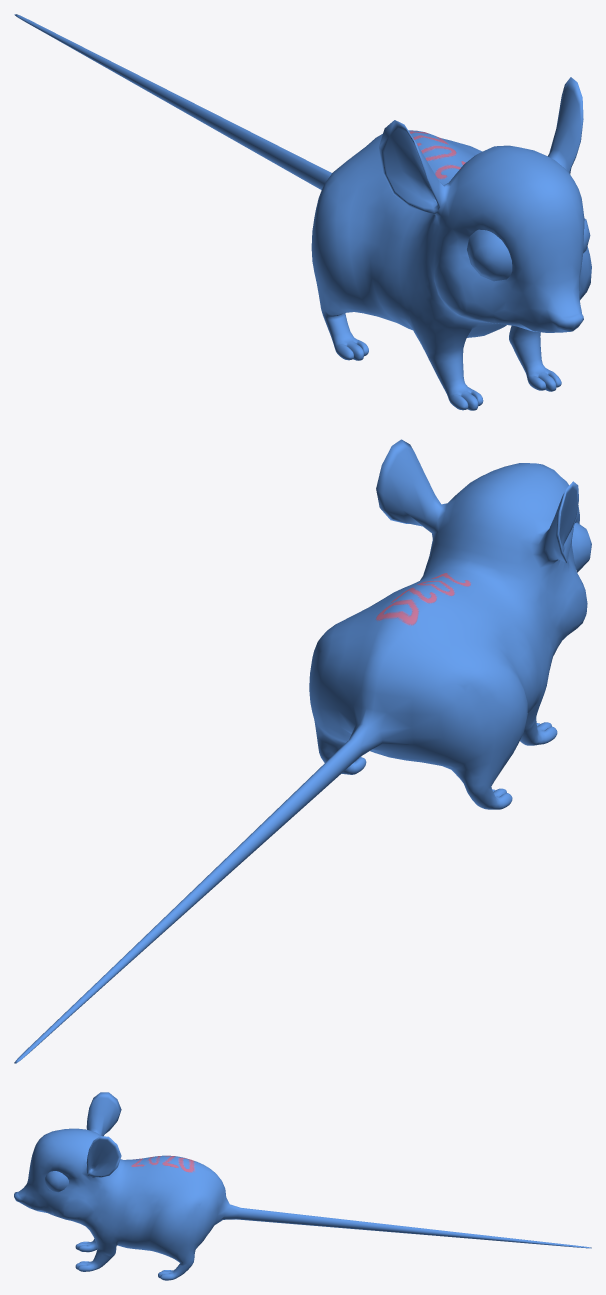
Rendered from mouse3.gltf.
The picture shows the model from 3 angles, top to bottom: view 1: azimuth 30°, elevation 25°; view 2: azimuth 150°, elevation 25°; view 3: azimuth 270°, elevation 25°; orthographic projection. The views are drawn at different scales.
Parts seen in each view (by area): view 1: mouse_walk v1; view 2: mouse_walk v1; view 3: mouse_walk v1.
Part boxes in pixels (x1=…): mouse_walk v1: x1=14, y1=14, x2=591, y2=410; mouse_walk v1: x1=14, y1=439, x2=591, y2=1063; mouse_walk v1: x1=14, y1=1092, x2=591, y2=1280.
Size of the model in its own units: 4.3 by 5.74 by 20.62.
1 material, 1 textured.
